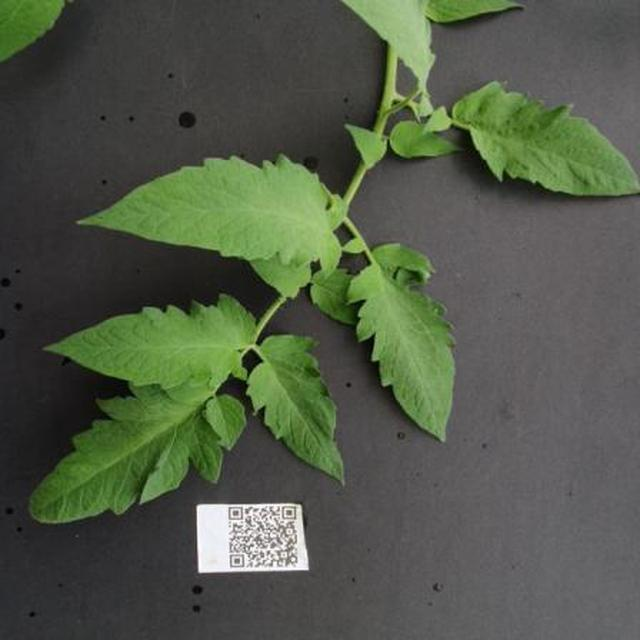Healthy Leaf: (143, 142, 640, 640)
